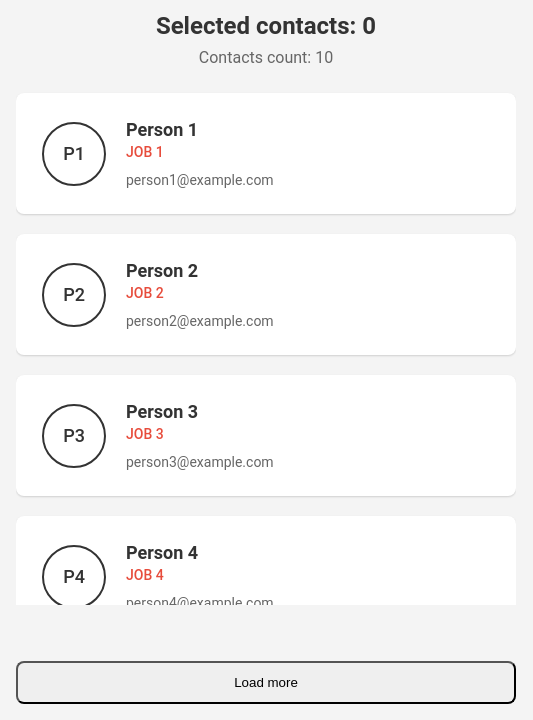
Test: App › shows error on failed page fetch and retries failed phase
The image size is (533, 720).
Check: the text "Contacts count: 10" is shown, box [199, 48, 333, 67]
What coordinates should you click on to do the following:
click the button "Load more"
I would click on:
 (266, 682)
Its box is [16, 661, 516, 704].
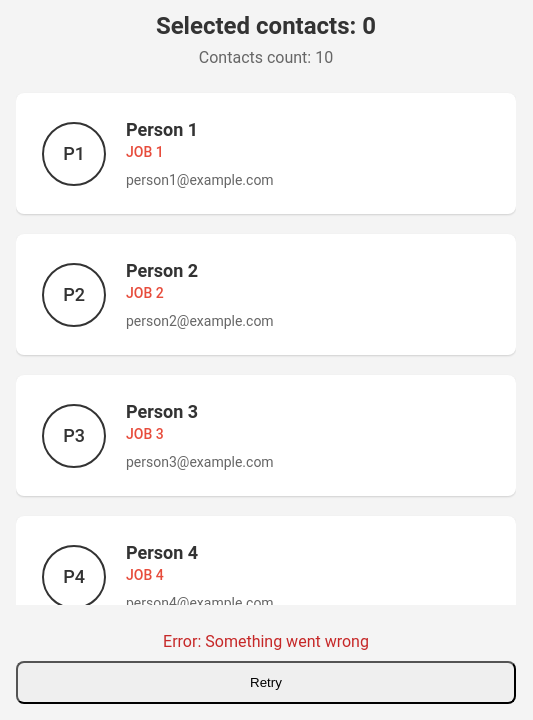
Check: the text "Error: Something went wrong" is shown, box [163, 632, 369, 650]
Check: the button "Retry" is shown
What coordinates should you click on to do the following:
click the button "Retry"
I would click on:
 (266, 682)
Its box is [16, 661, 516, 704].
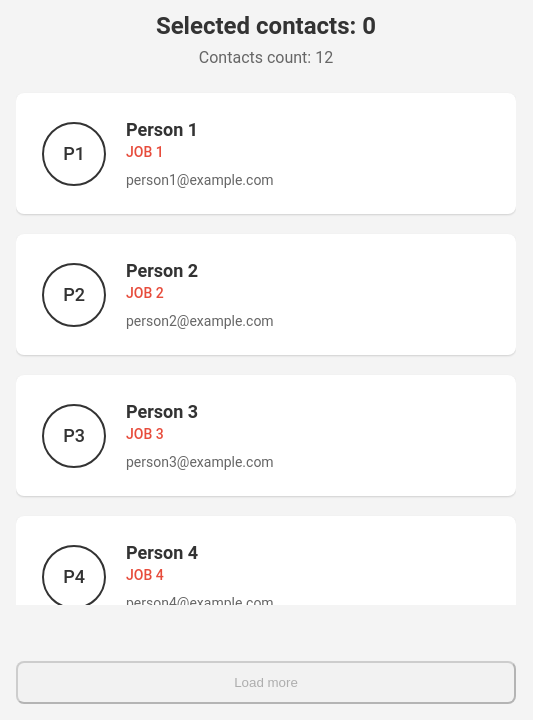
Check: the text "Contacts count: 12" is shown, box [199, 48, 333, 67]
Check: the text "Error:" is gone
